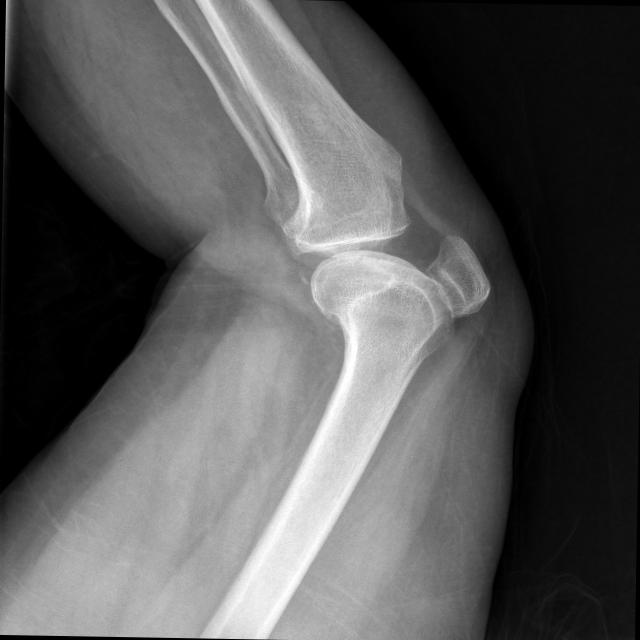Knee: (280, 179, 494, 342)
